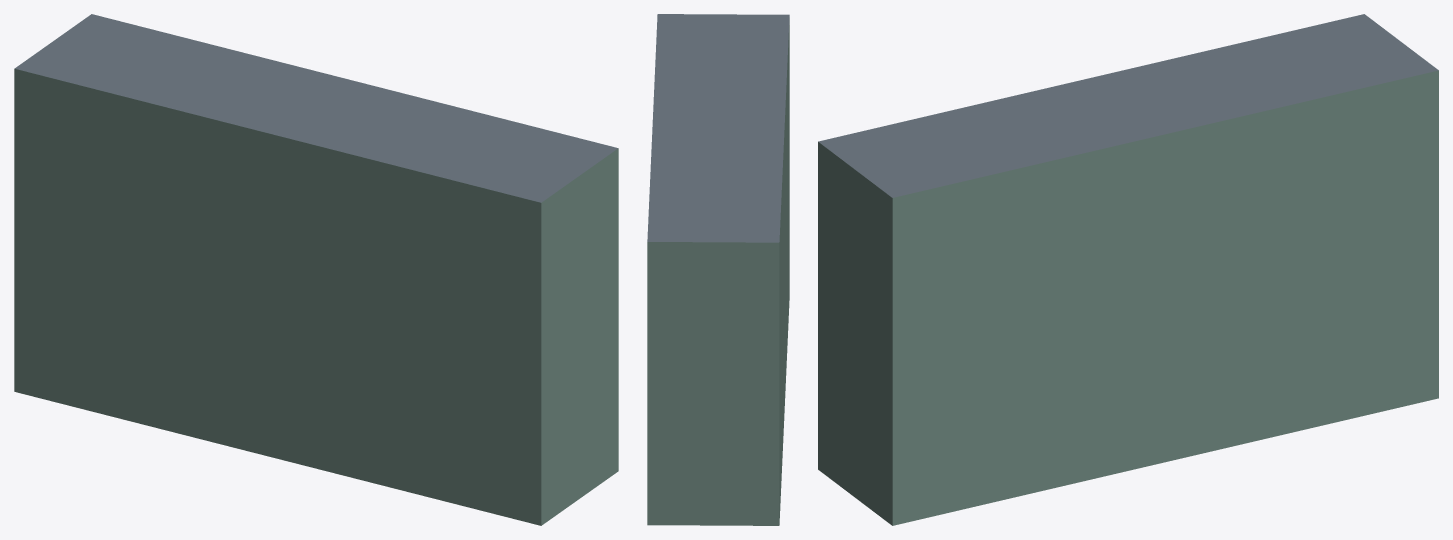
Rendered from nyc-1016012-0.glb.
The picture shows the model from 3 angles, left to right: view 1: azimuth 30°, elevation 25°; view 2: azimuth 150°, elevation 25°; view 3: azimuth 270°, elevation 25°; orthographic projection. The views are drawn at different scales.
Parts seen in each view (by area): view 1: nyc-1016012-0; view 2: nyc-1016012-0; view 3: nyc-1016012-0.
Boxes of the visible parts, x1,y1,x2,y2 form: nyc-1016012-0: [14, 14, 618, 525]; nyc-1016012-0: [647, 14, 789, 525]; nyc-1016012-0: [818, 14, 1438, 525].
Size of the model in its own units: 20.64 by 17.15 by 29.43.
